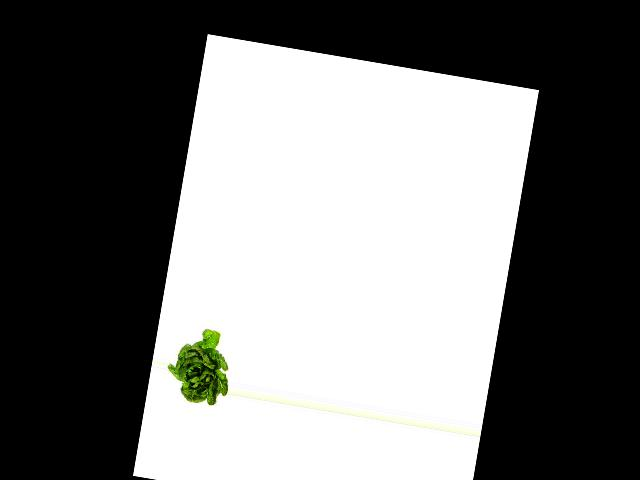lettuce: (162, 321, 235, 408)
